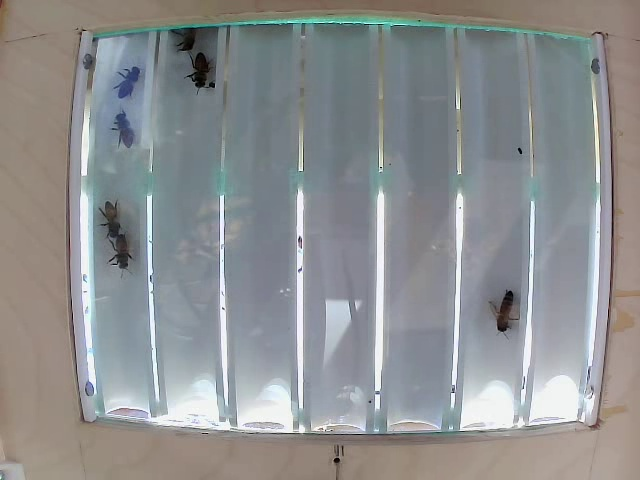bee: (99, 234, 136, 274), (117, 109, 152, 148), (171, 53, 212, 85), (494, 289, 523, 334), (118, 69, 148, 101), (99, 201, 128, 231)
